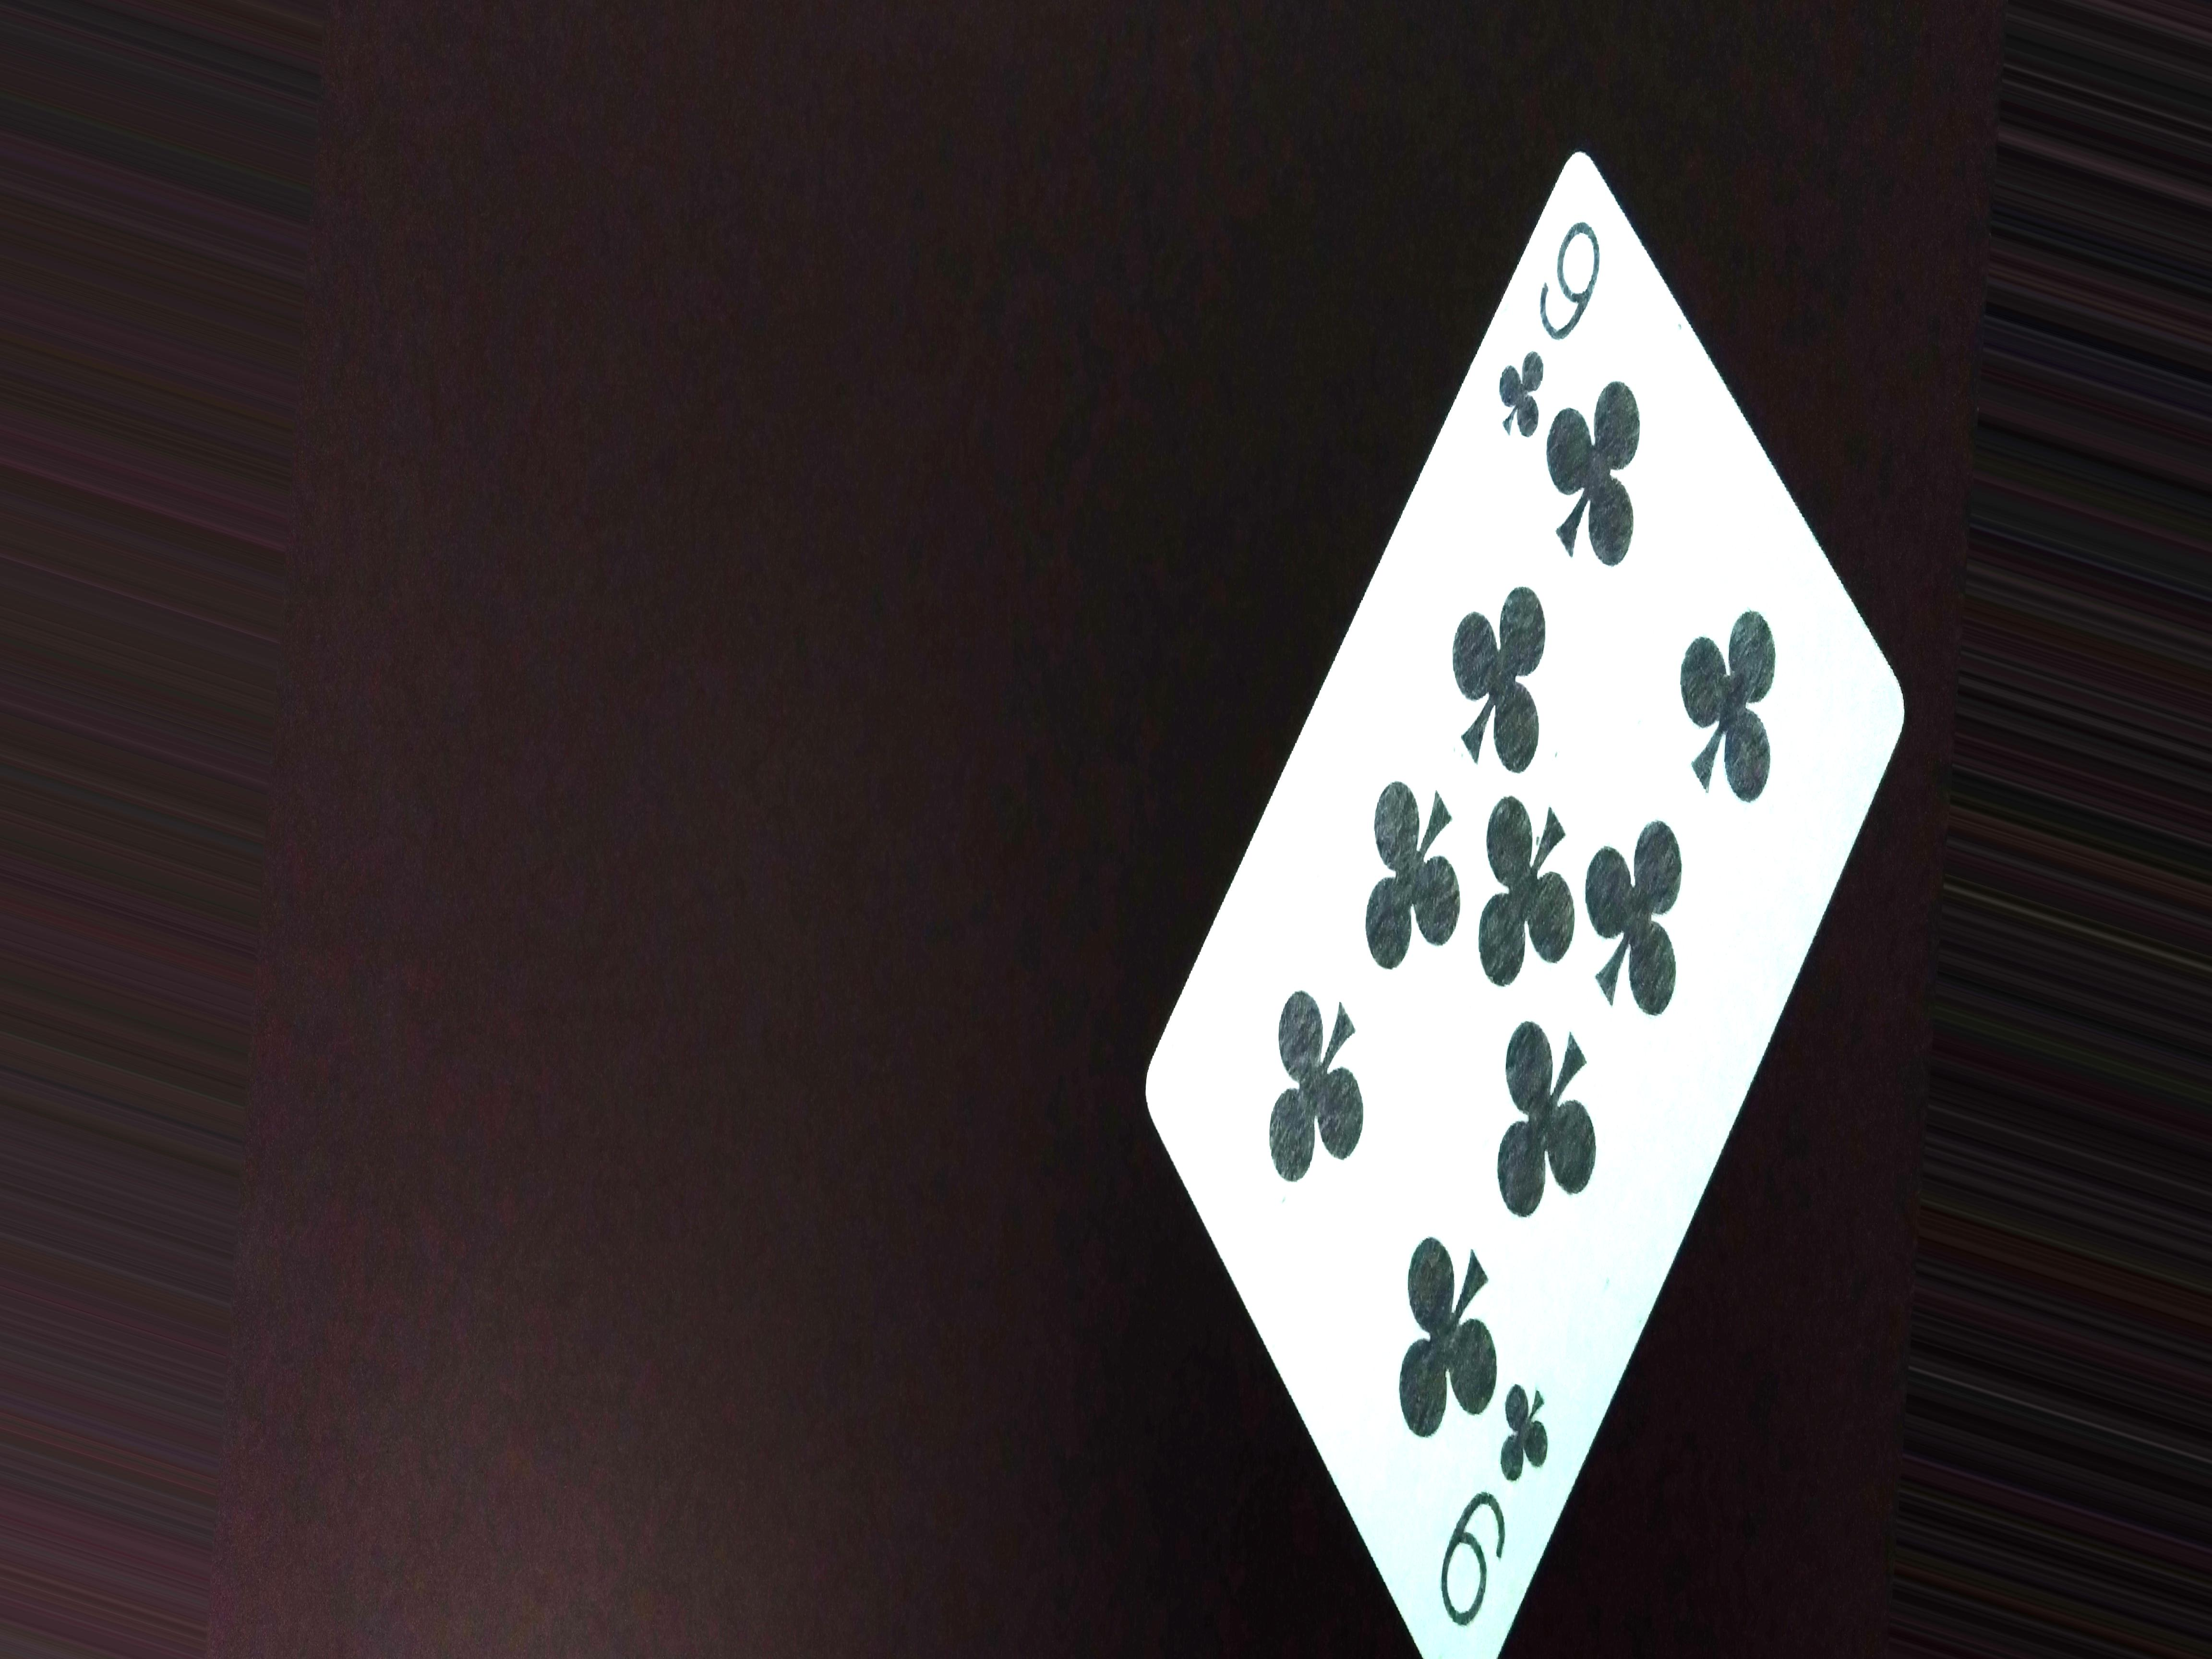9C: (1491, 207, 1615, 451)
